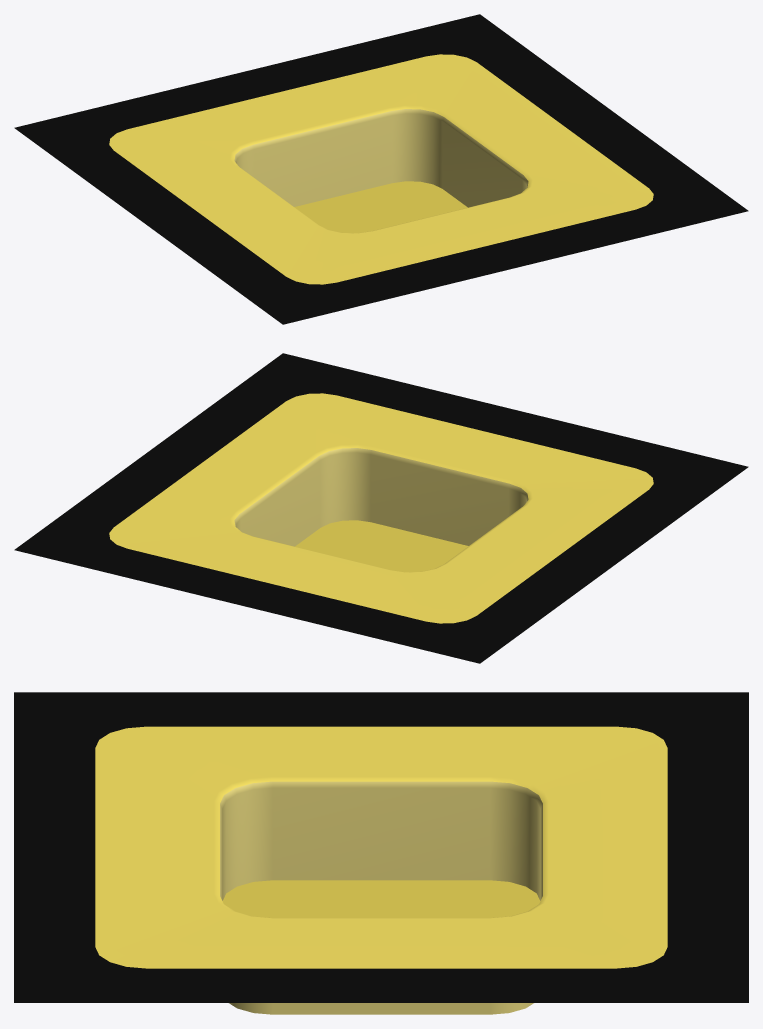
File: Cell_Yellow_V3.fbx
3 views of the same model, one above another, from view 1: azimuth 30°, elevation 25°; view 2: azimuth 150°, elevation 25°; view 3: azimuth 270°, elevation 25° (orthographic). The views are drawn at different scales.
Parts seen in each view (by area): view 1: Tile_Yellow, Cell_Border; view 2: Tile_Yellow, Cell_Border; view 3: Tile_Yellow, Cell_Border.
Boxes of the visible parts, x1,y1,x2,y2 form: Tile_Yellow: (109, 54, 653, 284); Cell_Border: (14, 14, 748, 324); Tile_Yellow: (109, 393, 653, 623); Cell_Border: (14, 353, 748, 663); Tile_Yellow: (95, 726, 667, 1014); Cell_Border: (14, 692, 748, 1002).
Size of the model in its own units: 112 by 16.8 by 112.
